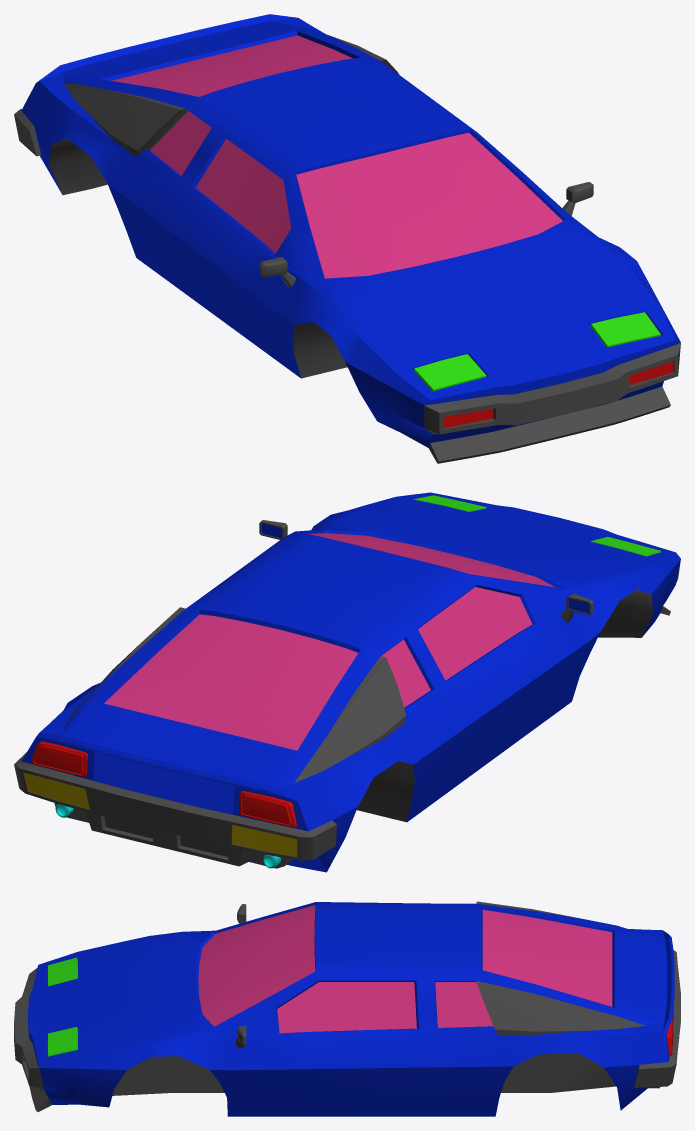
3 views of the same model, one above another, from view 1: azimuth 30°, elevation 25°; view 2: azimuth 150°, elevation 25°; view 3: azimuth 270°, elevation 25° (orthographic). The views are drawn at different scales.
Visible parts, largest first — view 1: C46; view 2: C46; view 3: C46.
Part boxes in pixels (box(x1,y1,x2,y2)): C46: box(14, 14, 680, 463); C46: box(14, 492, 680, 872); C46: box(14, 901, 680, 1116).
Bounding box in the file's own units: 88.1 × 41.72 × 188.
